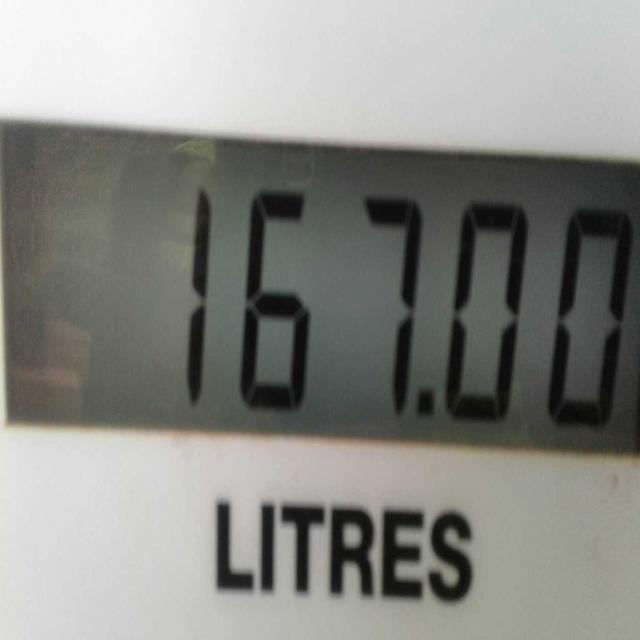.: (412, 374, 438, 433)
0: (442, 198, 522, 424), (547, 207, 626, 429)
1: (191, 195, 220, 398)
6: (233, 189, 312, 412)
7: (363, 196, 419, 407)
